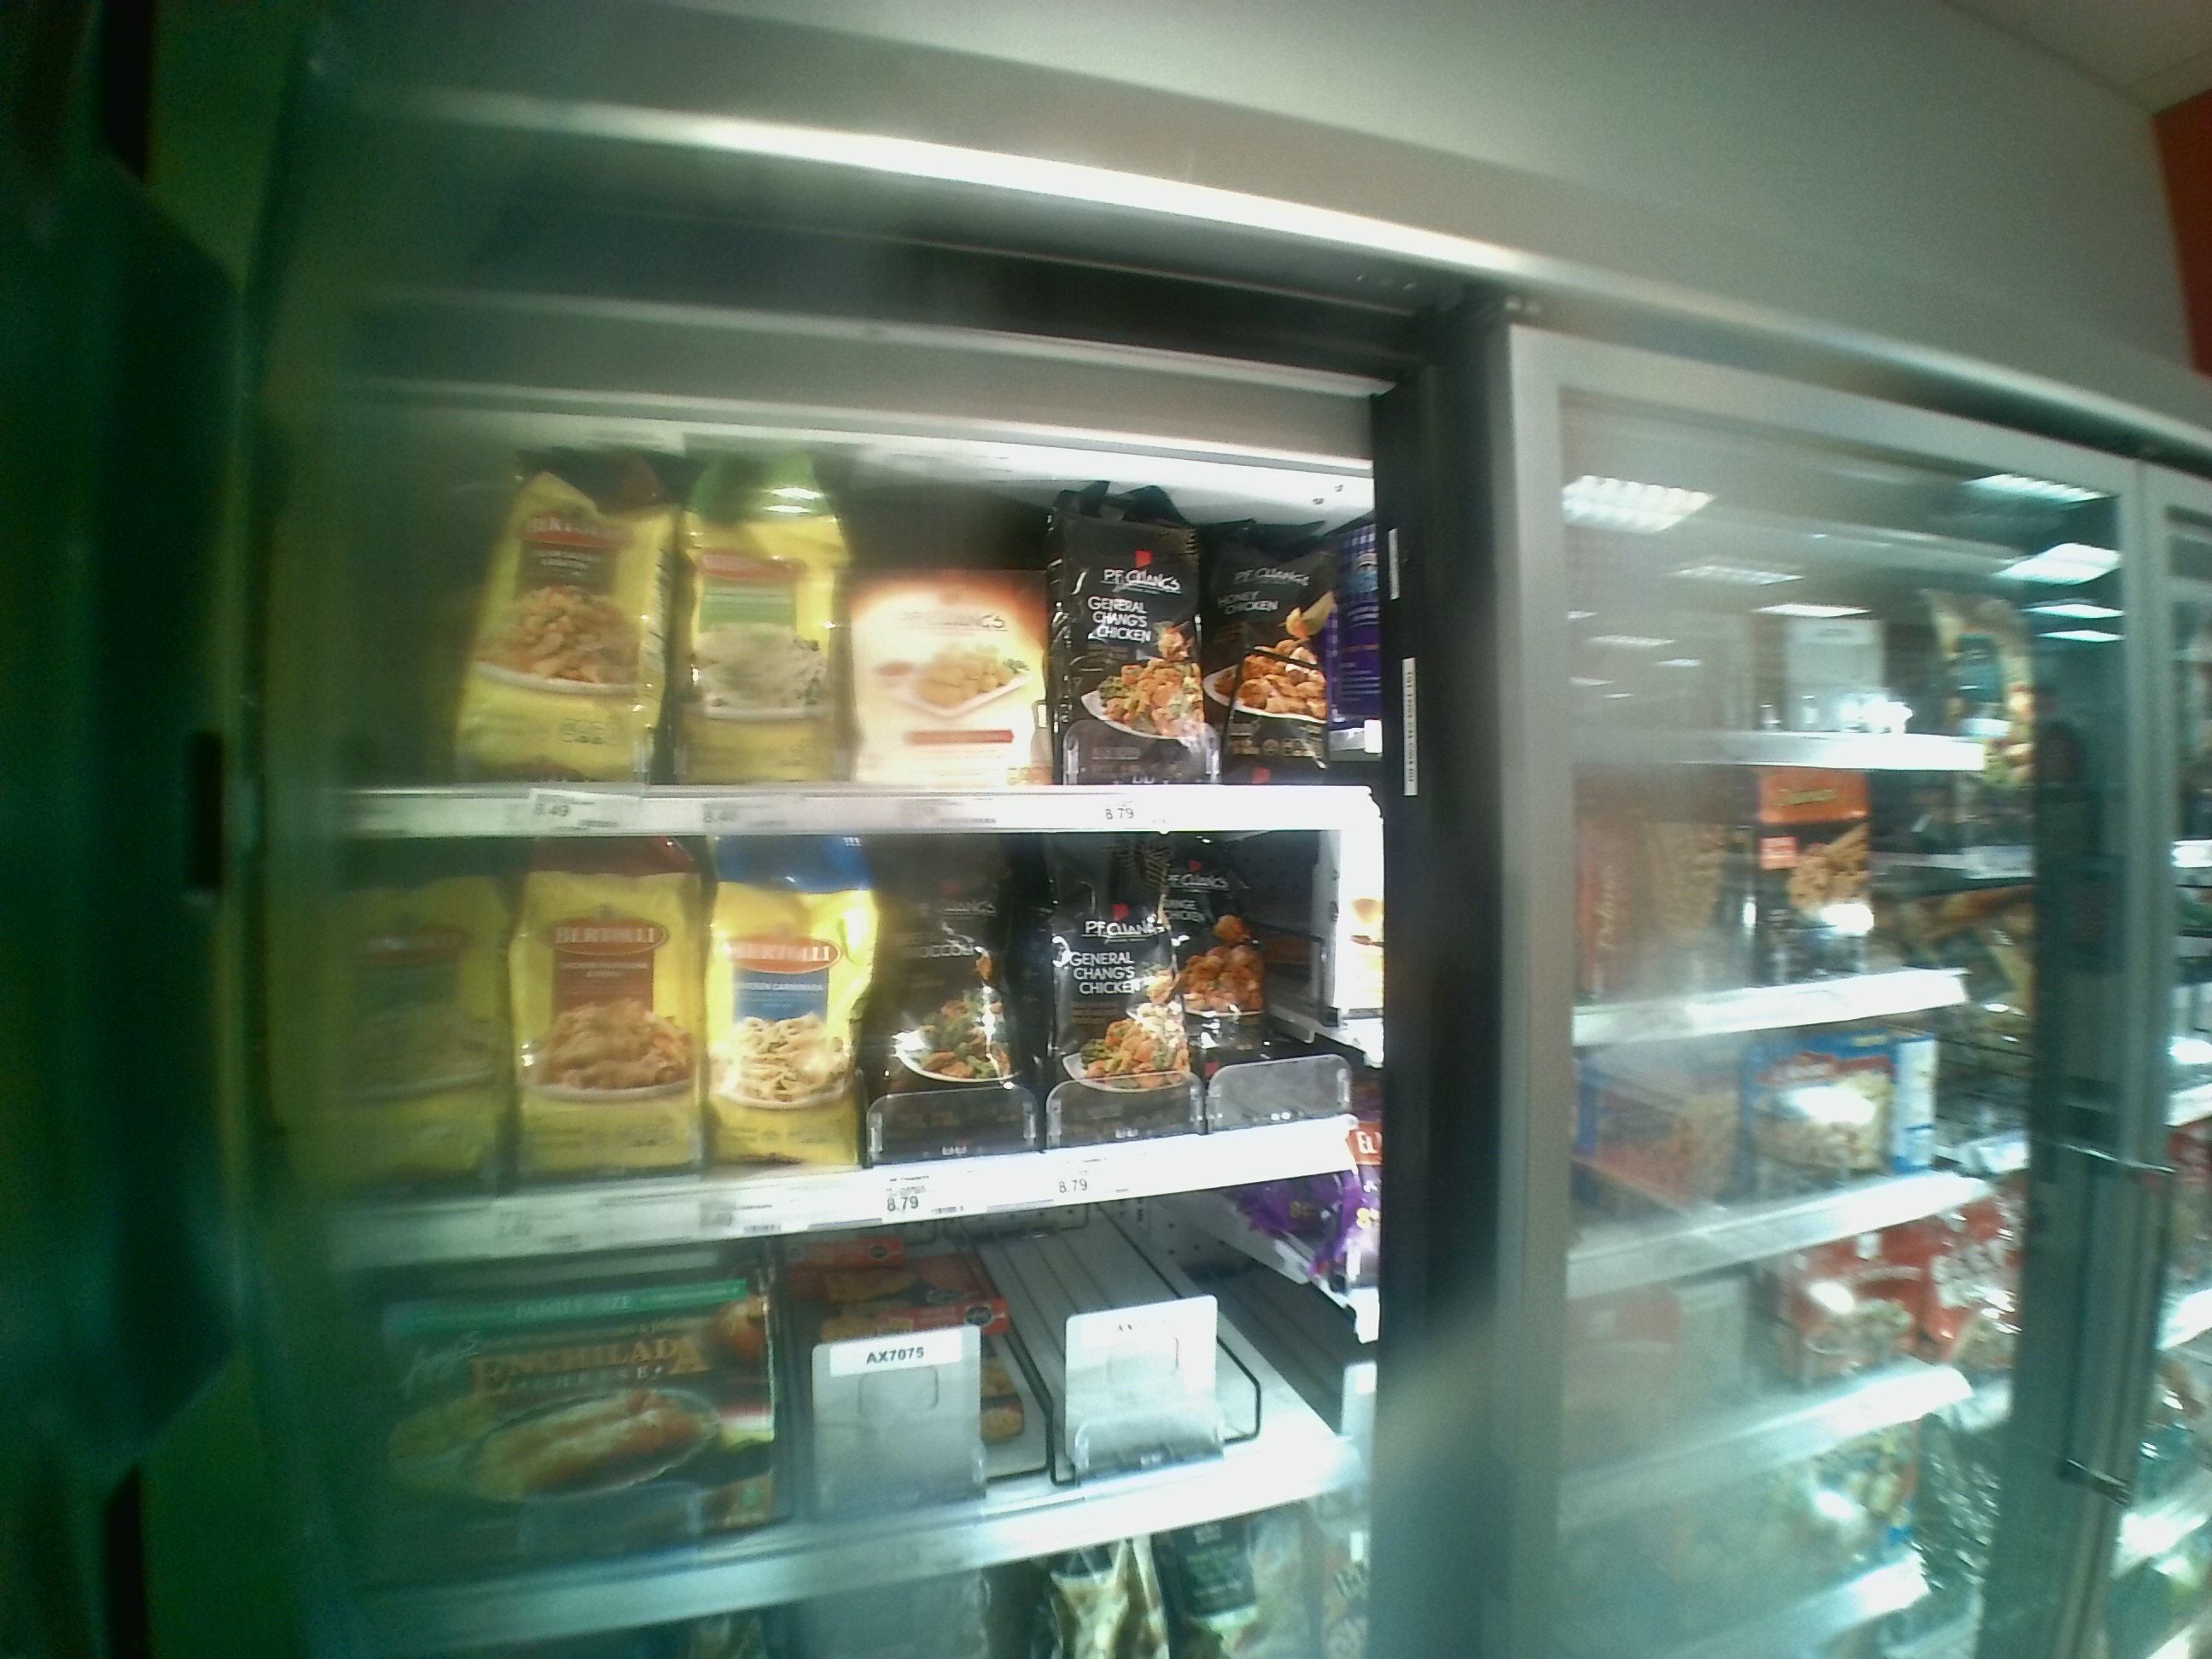shelf: (331, 401, 1367, 840), (340, 847, 1369, 1225), (341, 1225, 1367, 1598)
